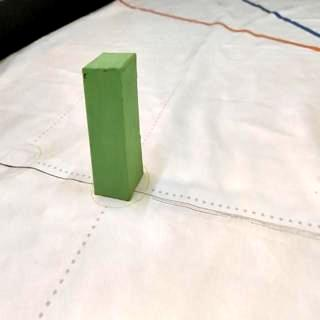greenbox: (80, 51, 142, 202)
